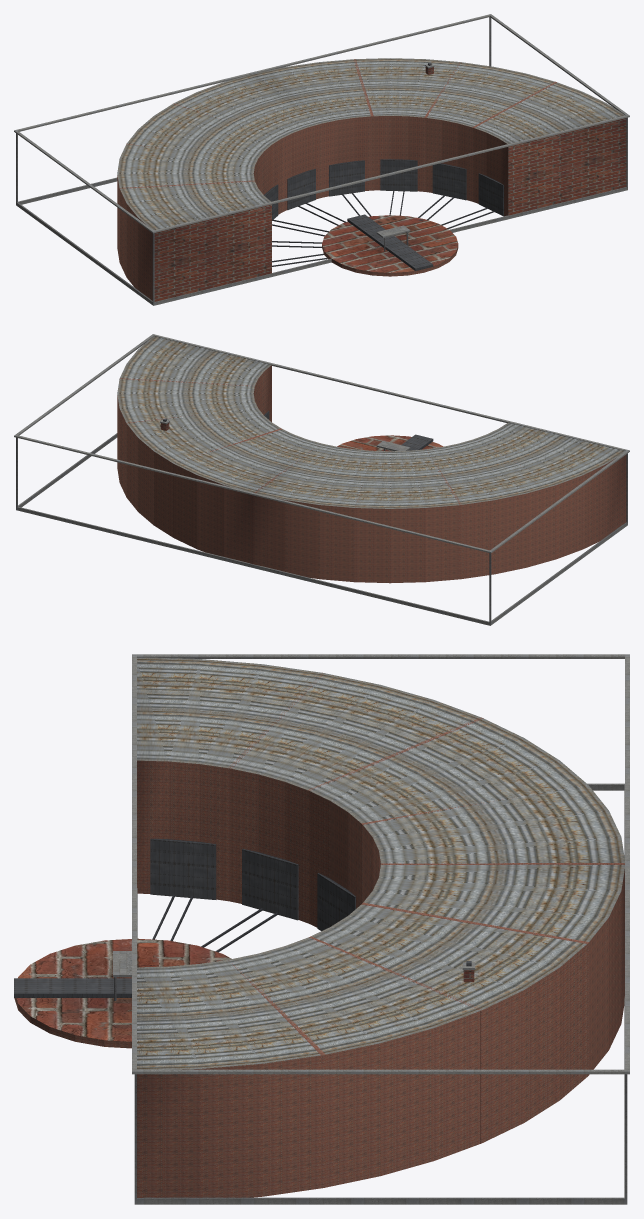
File: railyard-roundhouse_lod0.gltf
The picture shows the model from 3 angles, top to bottom: view 1: azimuth 30°, elevation 25°; view 2: azimuth 150°, elevation 25°; view 3: azimuth 270°, elevation 25°; orthographic projection. The views are drawn at different scales.
Visible parts, largest first — view 1: railyard-roundhouse_roof, railyard-roundhouse_ends, railyard-roundhouse_inner, railyard-roundhouse__v4_stone_detail, railyard-roundhouse_stall_doors, railyard-roundhouse__turntable, railyard-roundhouse_outer, railyard-roundhouse_rails, railyard-roundhouse__turntable_bridge, railyard-roundhouse_bays; view 2: railyard-roundhouse_roof, railyard-roundhouse_outer, railyard-roundhouse__v4_stone_detail, railyard-roundhouse_bays, railyard-roundhouse__turntable, railyard-roundhouse_inner; view 3: railyard-roundhouse_roof, railyard-roundhouse_outer, railyard-roundhouse_inner, railyard-roundhouse__v4_stone_detail, railyard-roundhouse__turntable, railyard-roundhouse_stall_doors, railyard-roundhouse_bays, railyard-roundhouse__turntable_bridge, railyard-roundhouse_rails.
Part boxes in pixels (box(x1,y1,x2,y2)): railyard-roundhouse_roof: box(117, 58, 625, 230); railyard-roundhouse_ends: box(154, 118, 626, 301); railyard-roundhouse_inner: box(253, 116, 508, 216); railyard-roundhouse__v4_stone_detail: box(14, 14, 629, 305); railyard-roundhouse_stall_doors: box(264, 159, 503, 219); railyard-roundhouse__turntable: box(322, 215, 458, 276); railyard-roundhouse_outer: box(117, 175, 152, 300); railyard-roundhouse_rails: box(272, 190, 494, 266); railyard-roundhouse__turntable_bridge: box(347, 214, 433, 270); railyard-roundhouse_bays: box(119, 59, 556, 262); railyard-roundhouse_roof: box(117, 336, 625, 508); railyard-roundhouse_outer: box(117, 395, 626, 583); railyard-roundhouse__v4_stone_detail: box(14, 334, 629, 625); railyard-roundhouse_bays: box(120, 378, 557, 582); railyard-roundhouse__turntable: box(337, 435, 443, 451); railyard-roundhouse_inner: box(253, 365, 271, 421); railyard-roundhouse_roof: box(137, 657, 624, 1069); railyard-roundhouse_outer: box(137, 869, 624, 1197); railyard-roundhouse_inner: box(137, 760, 380, 927); railyard-roundhouse__v4_stone_detail: box(113, 654, 629, 1204); railyard-roundhouse__turntable: box(14, 938, 231, 1048); railyard-roundhouse_stall_doors: box(150, 838, 355, 930); railyard-roundhouse_bays: box(228, 673, 624, 1188); railyard-roundhouse__turntable_bridge: box(14, 978, 131, 997); railyard-roundhouse_rails: box(152, 894, 278, 952).
Bounding box in the file's own units: 80.72 × 13.59 × 50.36.
